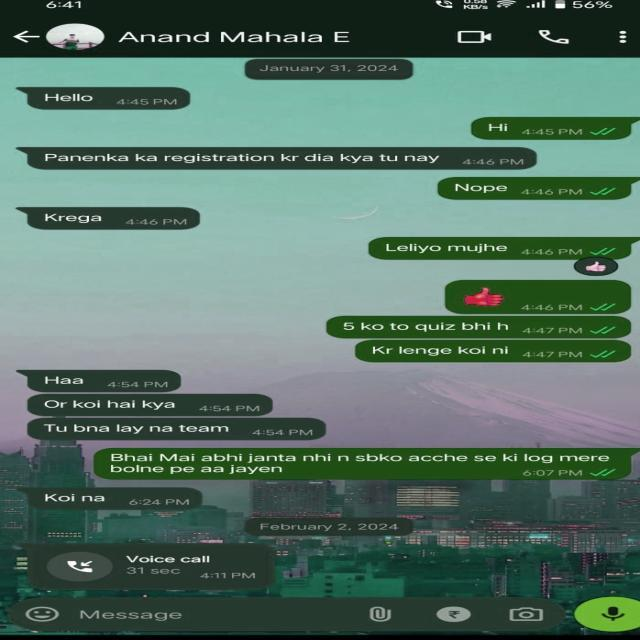scam: (24, 147, 537, 170), (29, 418, 328, 440), (26, 394, 271, 416), (27, 487, 205, 510), (23, 208, 201, 230), (22, 88, 191, 110), (25, 369, 185, 392)
